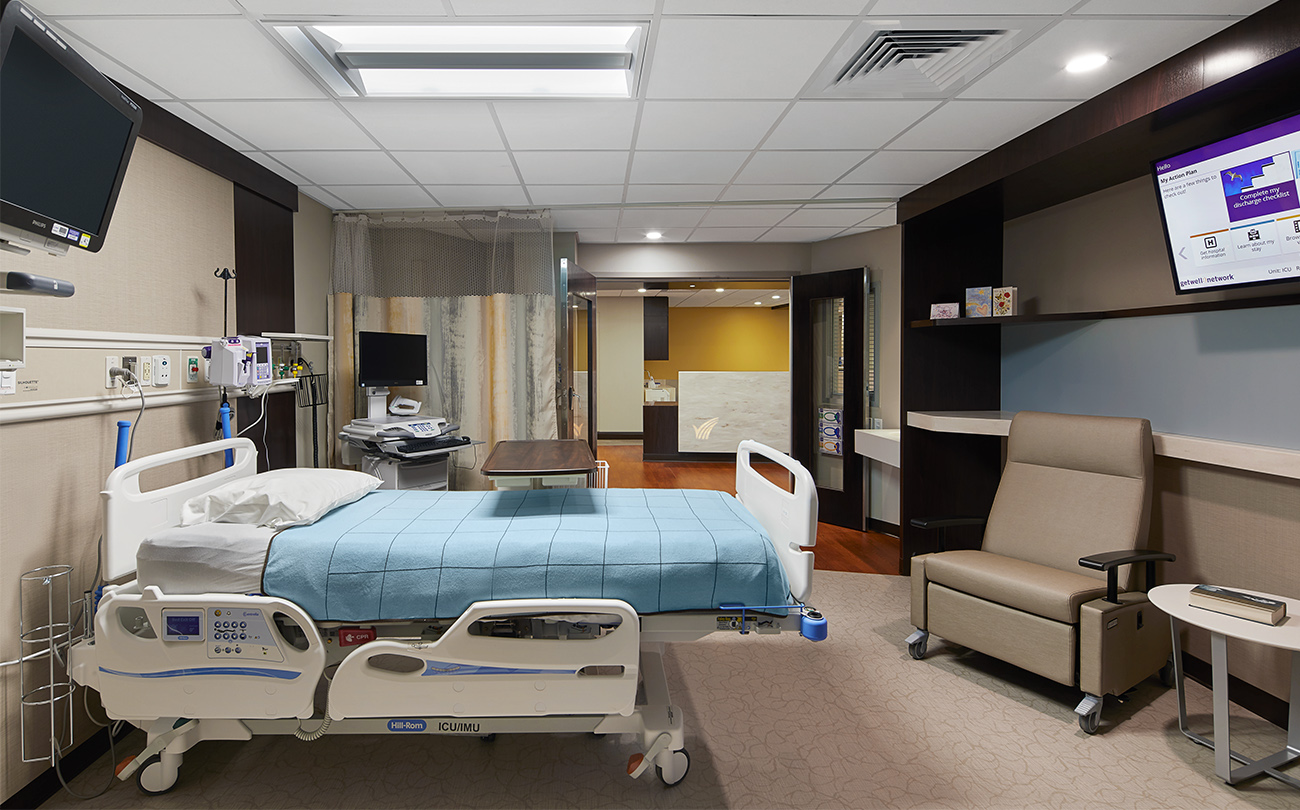TV: (1150, 110, 1300, 295)
bedrail: (329, 599, 639, 722), (94, 586, 326, 720)
bedside_monitor: (1, 1, 142, 252)
cabinet: (643, 297, 672, 365)
chair: (905, 411, 1175, 735)
computer: (359, 330, 428, 387)
counter: (644, 377, 676, 406)
curtain: (323, 284, 555, 437)
dispenser: (813, 409, 842, 454)
door_handle: (572, 391, 581, 411)
foot_board: (736, 439, 827, 640)
hospital_bed: (67, 437, 827, 796)
infusion_pump: (210, 334, 272, 390)
iv_pole: (214, 267, 239, 343)
keyboard: (401, 435, 470, 453), (393, 439, 471, 453)
mouse: (461, 435, 472, 442)
overbed_table: (481, 439, 597, 487)
table: (1148, 584, 1299, 794)
